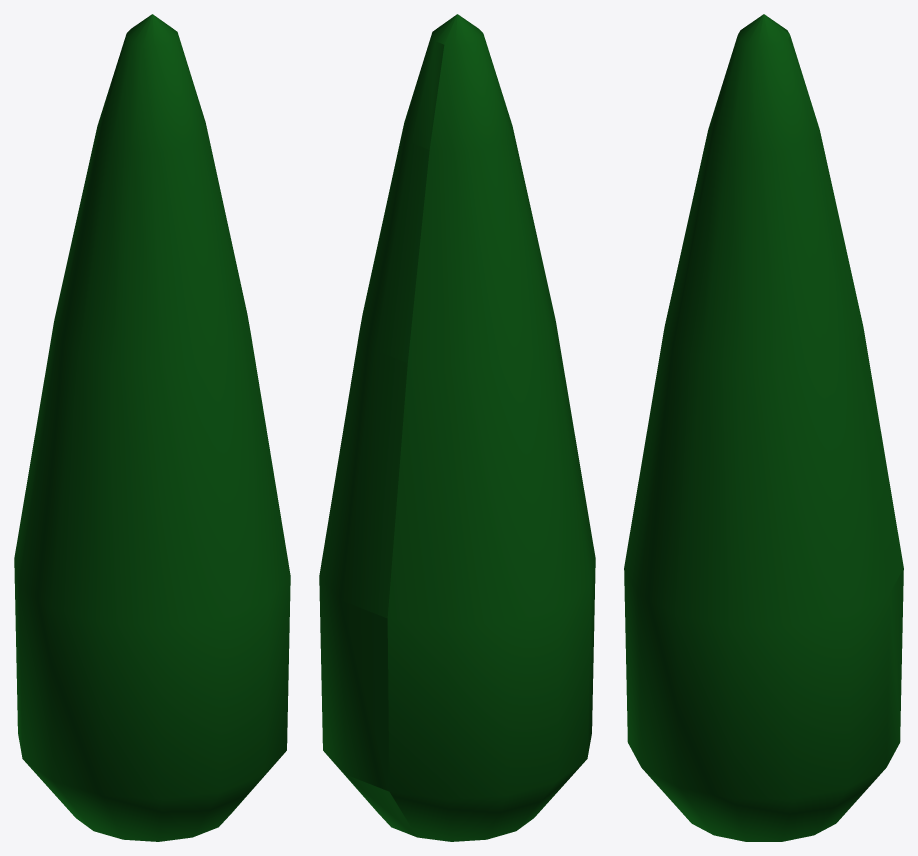
The model's file is Foliage3.DAE.
3 renders of one model, left to right at view 1: azimuth 30°, elevation 25°; view 2: azimuth 150°, elevation 25°; view 3: azimuth 270°, elevation 25°, orthographic.
Visible parts, largest first — view 1: Sphere018; view 2: Sphere018; view 3: Sphere018.
Part boxes in pixels (x1,y1,x2,y2): Sphere018: (14,14,290,841); Sphere018: (319,14,595,841); Sphere018: (624,14,903,841).
Bounding box in the file's own units: 20.42 × 66.38 × 20.95.
